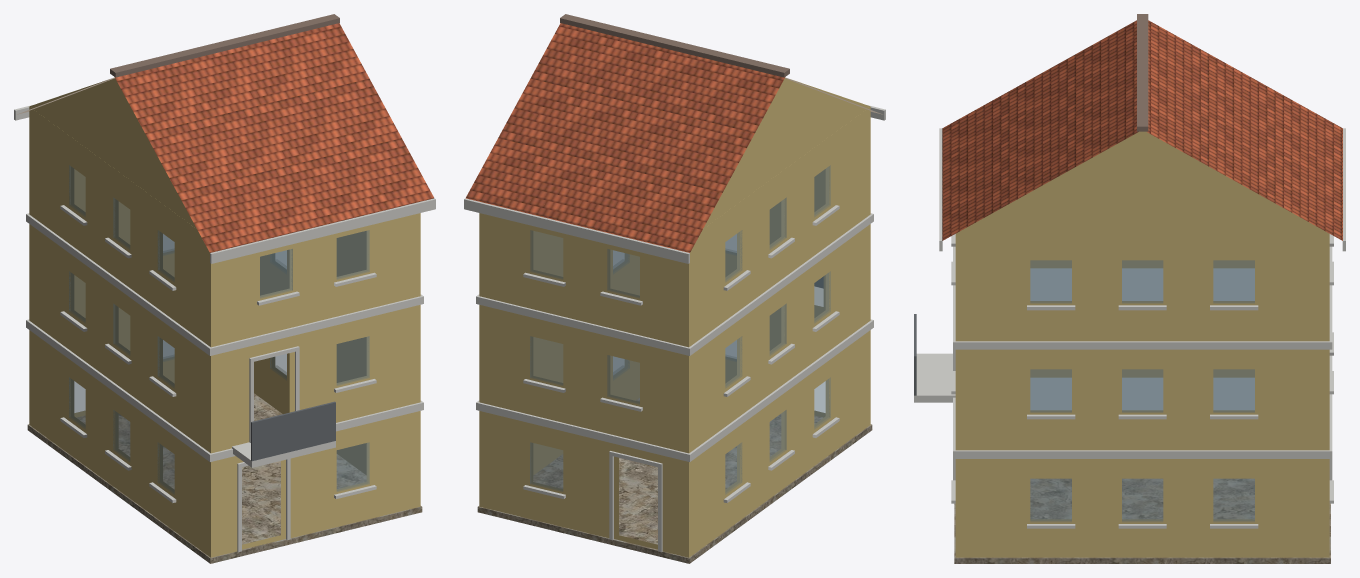
The model's file is cove-house-yellow.reveal-v1.lod1.glb.
The picture shows the model from 3 angles, left to right: view 1: azimuth 30°, elevation 25°; view 2: azimuth 150°, elevation 25°; view 3: azimuth 270°, elevation 25°; orthographic projection. The views are drawn at different scales.
Visible parts, largest first — view 1: cove-house-yellow; view 2: cove-house-yellow; view 3: cove-house-yellow.
Boxes of the visible parts, x1,y1,x2,y2 form: cove-house-yellow: [14, 14, 435, 563]; cove-house-yellow: [464, 14, 885, 563]; cove-house-yellow: [914, 14, 1345, 563].
Size of the model in its own units: 6.42 by 11.7 by 10.39.
4 materials, 2 textured.
